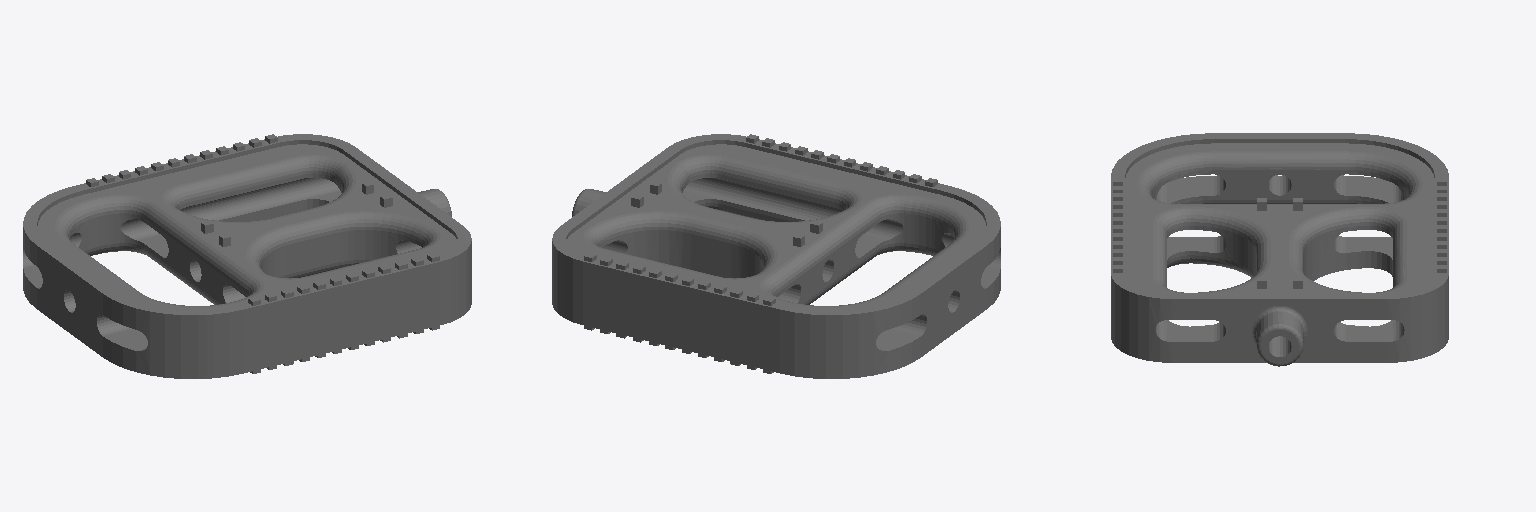
Rendered from seci_prob9.obj.
The picture shows the model from 3 angles: view 1: azimuth 30°, elevation 25°; view 2: azimuth 150°, elevation 25°; view 3: azimuth 270°, elevation 25°; orthographic projection.
Visible parts, largest first — view 1: SecI_Prob9; view 2: SecI_Prob9; view 3: SecI_Prob9.
Part boxes in pixels (left/top/right/bottom): SecI_Prob9: left=23, top=134, right=471, bottom=378; SecI_Prob9: left=552, top=134, right=1000, bottom=378; SecI_Prob9: left=1111, top=133, right=1448, bottom=366.
Size of the model in its own units: 0.0915 by 0.017 by 0.072.